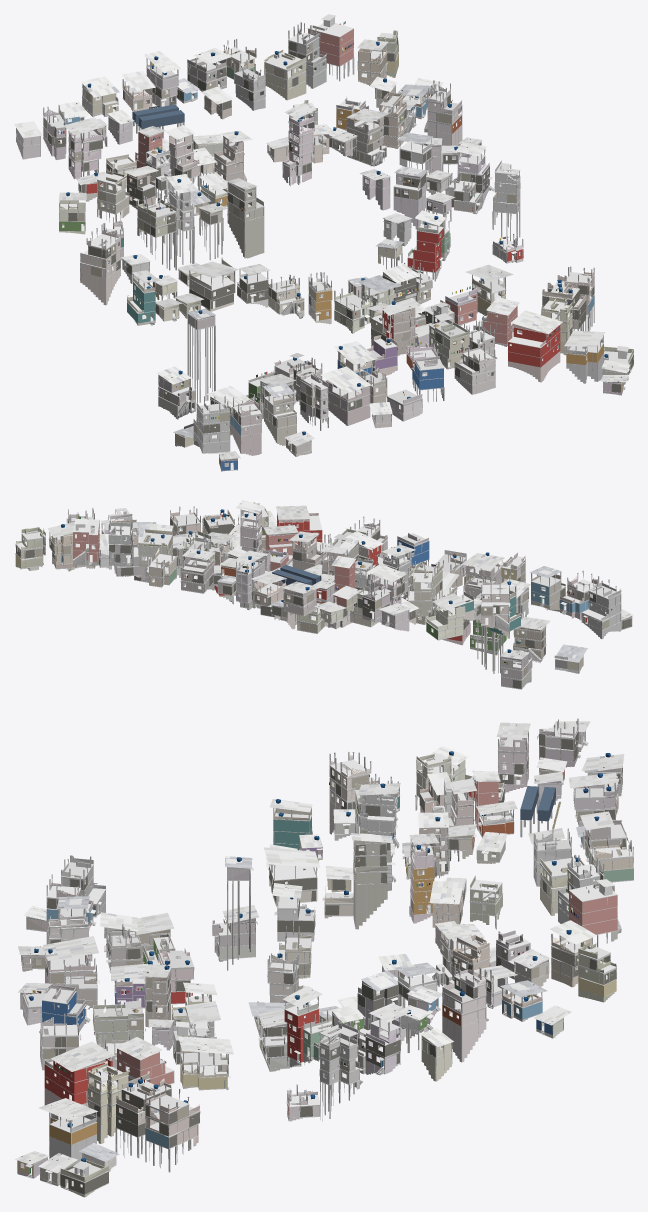
The picture shows the model from 3 angles, top to bottom: view 1: azimuth 30°, elevation 25°; view 2: azimuth 150°, elevation 25°; view 3: azimuth 270°, elevation 25°; orthographic projection. The views are drawn at different scales.
Visible parts, largest first — view 1: T_26_27; view 2: T_26_27; view 3: T_26_27.
Part boxes in pixels (x1,y1,x2,y2): T_26_27: (14, 14, 633, 471); T_26_27: (14, 500, 633, 689); T_26_27: (14, 718, 633, 1197).
Size of the model in its own units: 135 by 63.91 by 135.
